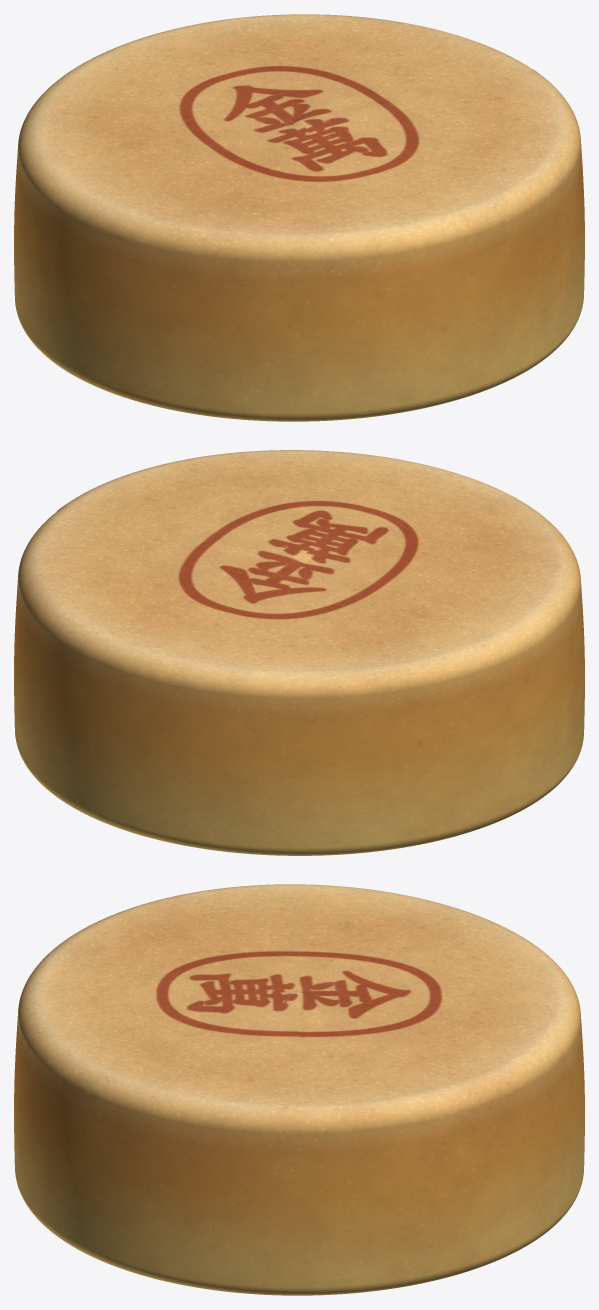
File: kinman.glb
3 renders of one model, top to bottom at view 1: azimuth 30°, elevation 25°; view 2: azimuth 150°, elevation 25°; view 3: azimuth 270°, elevation 25°, orthographic.
Parts seen in each view (by area): view 1: KM_Whole, KM_HalfB, KM_HalfA; view 2: KM_Whole, KM_HalfA, KM_HalfB; view 3: KM_Whole, KM_HalfB, KM_HalfA.
Boxes of the visible parts, x1,y1,x2,y2 form: KM_Whole: (14, 14, 584, 421); KM_HalfB: (46, 67, 543, 381); KM_HalfA: (27, 52, 531, 356); KM_Whole: (14, 450, 584, 855); KM_HalfA: (37, 506, 548, 792); KM_HalfB: (57, 486, 570, 795); KM_Whole: (14, 884, 584, 1295); KM_HalfB: (242, 884, 302, 1295); KM_HalfA: (292, 890, 354, 1295).
Bounding box in the file's own units: 0.0465 × 0.0166 × 0.0458.
1 material, 1 textured.
